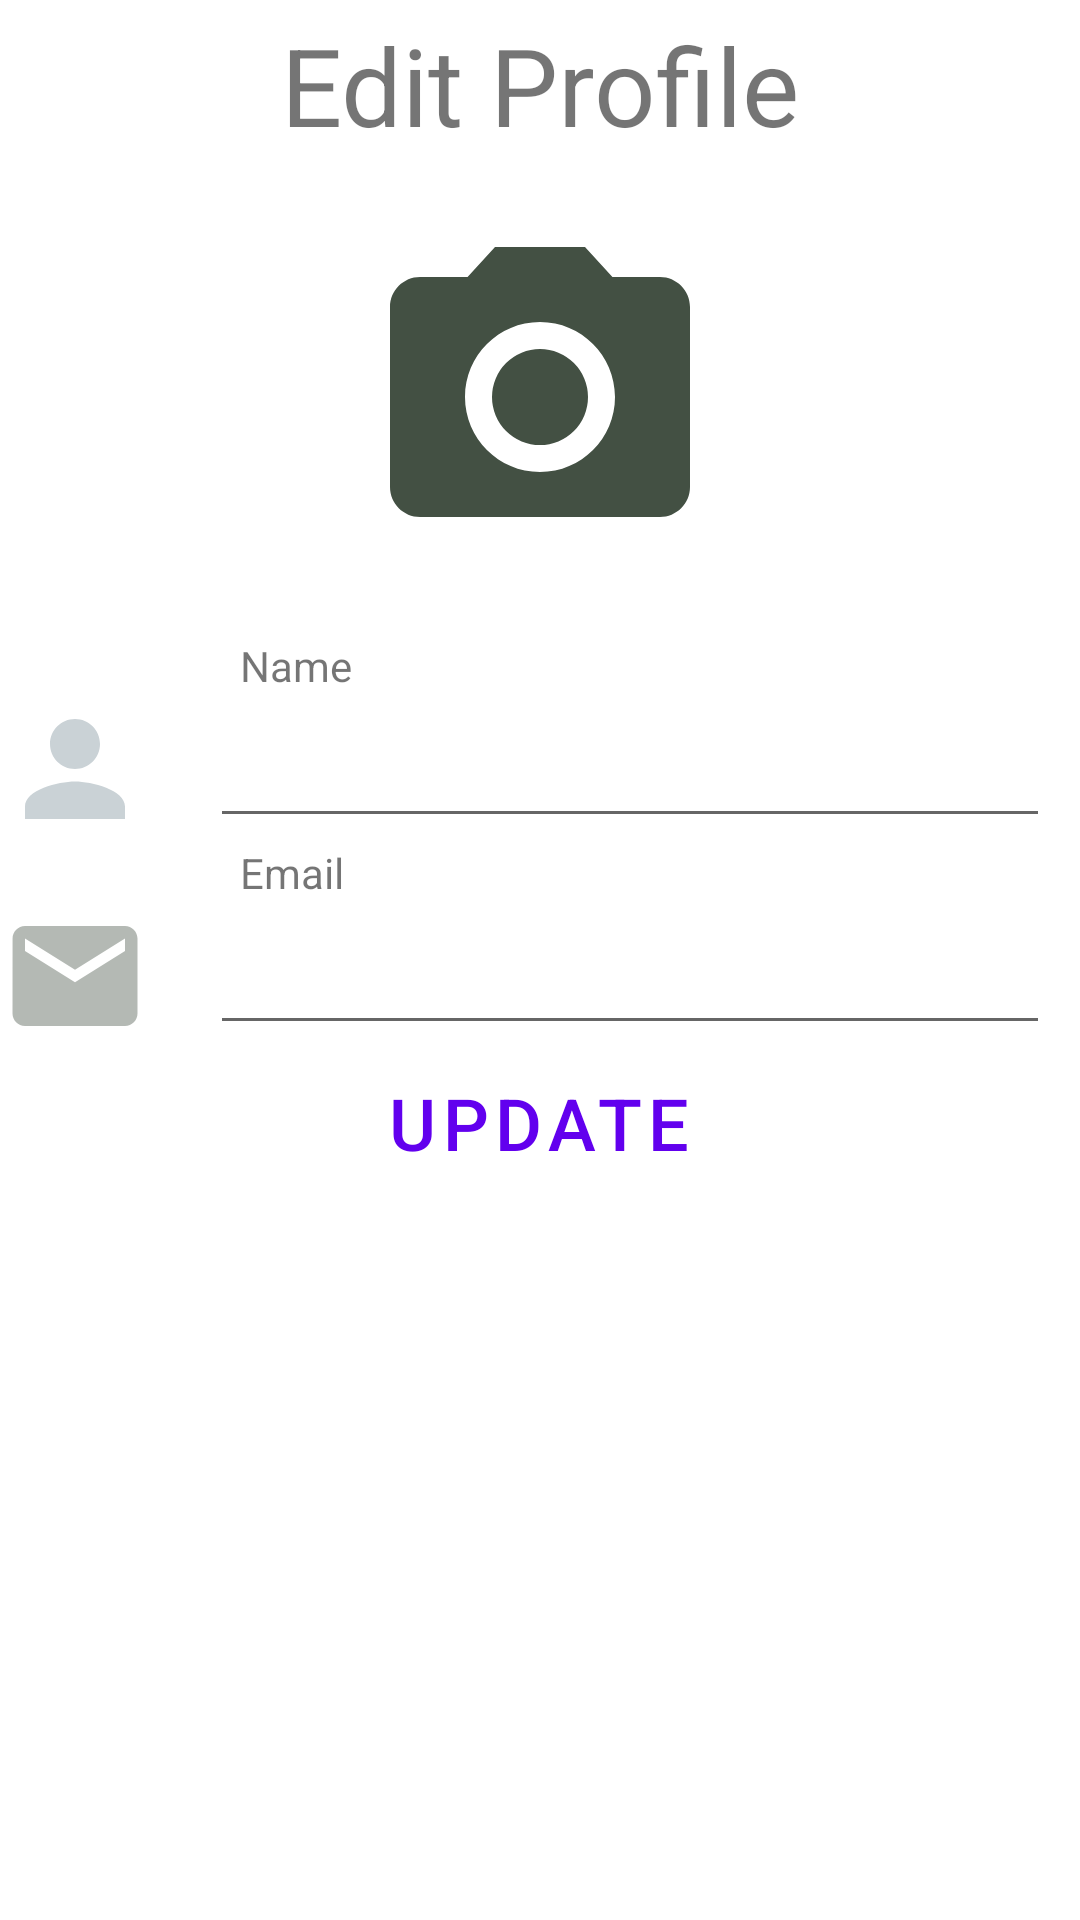

Icons on this 1080px x 1920px Android screen, each with the point to tap as [x,y]:
camera: [540,382]
person: [75,769]
